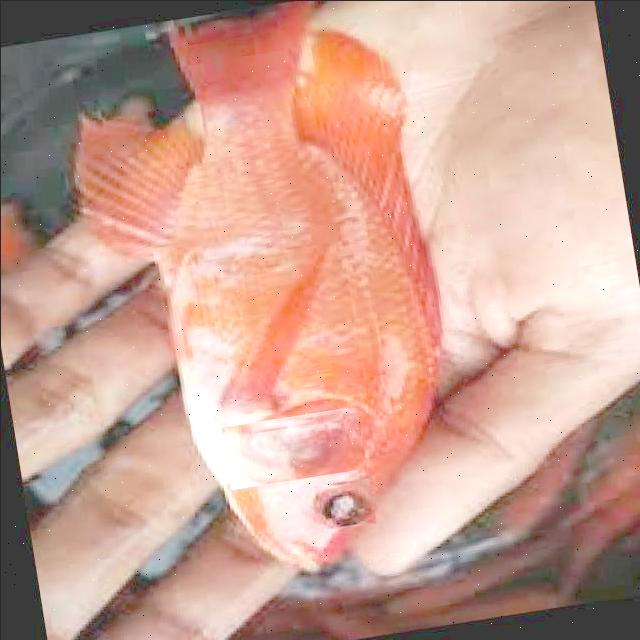Aeromonas Septicemia: (72, 0, 445, 569)
